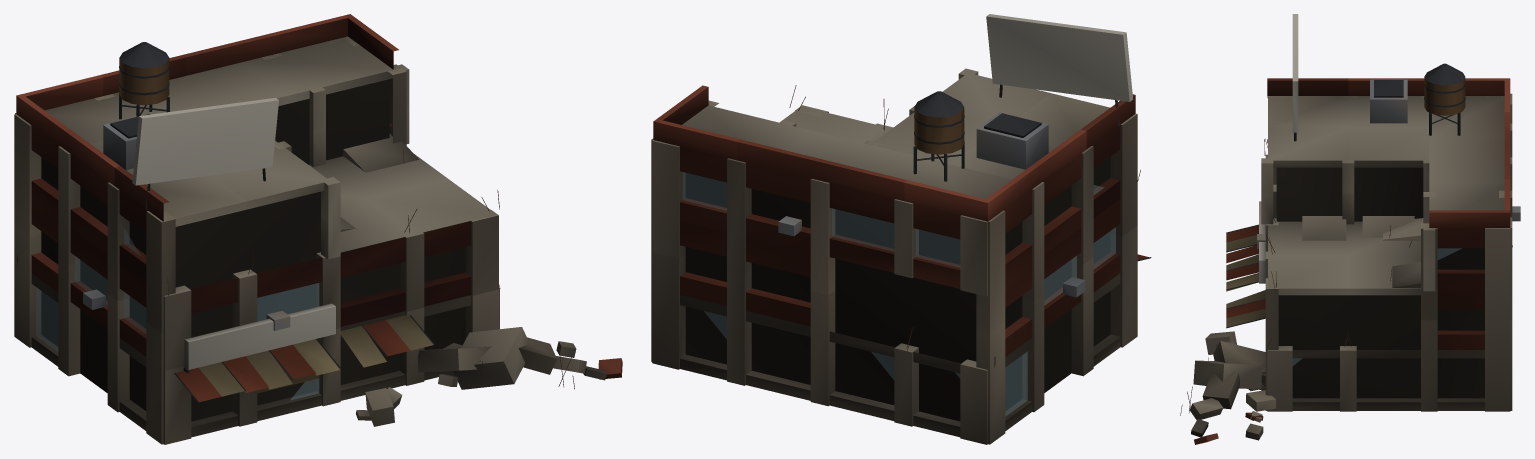
The model's file is ruin_lowrise_a.glb.
The picture shows the model from 3 angles, left to right: view 1: azimuth 30°, elevation 25°; view 2: azimuth 150°, elevation 25°; view 3: azimuth 270°, elevation 25°; orthographic projection. The views are drawn at different scales.
Visible parts, largest first — view 1: concrete, concrete_dark, brick, paint, canvas, glass, metal_dark, metal_bare, wood; view 2: concrete, brick, concrete_dark, paint, glass, metal_bare, metal_dark, wood; view 3: concrete, concrete_dark, brick, canvas, metal_dark, metal_bare, paint, wood.
Boxes of the visible parts, box(x1,y1,x2,y2) form: concrete: box(14, 36, 586, 444); concrete_dark: box(41, 79, 606, 421); brick: box(16, 14, 622, 379); paint: box(132, 97, 335, 369); canvas: box(175, 315, 433, 402); glass: box(36, 153, 318, 399); metal_dark: box(110, 42, 434, 402); metal_bare: box(83, 113, 290, 330); wood: box(119, 58, 169, 105); concrete: box(651, 68, 1137, 444); brick: box(653, 85, 1135, 356); concrete_dark: box(685, 157, 1110, 421); paint: box(986, 14, 1133, 101); glass: box(683, 172, 1115, 416); metal_bare: box(778, 112, 1085, 297); metal_dark: box(913, 84, 1151, 261); wood: box(914, 107, 964, 154); concrete: box(1189, 93, 1512, 440); concrete_dark: box(1191, 167, 1484, 437); brick: box(1194, 78, 1510, 444); canvas: box(1226, 225, 1265, 327); metal_dark: box(1226, 63, 1465, 328); metal_bare: box(1257, 79, 1520, 248); paint: box(1259, 14, 1298, 283); wood: box(1424, 77, 1465, 115).
Size of what is drawn, in the model's own units: 22.15 by 15.63 by 18.2.
